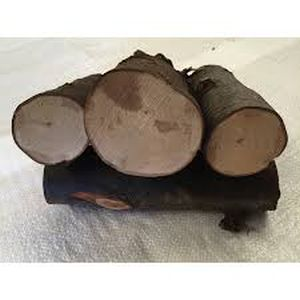log: (83, 59, 204, 185), (207, 101, 292, 183), (8, 93, 92, 170)
